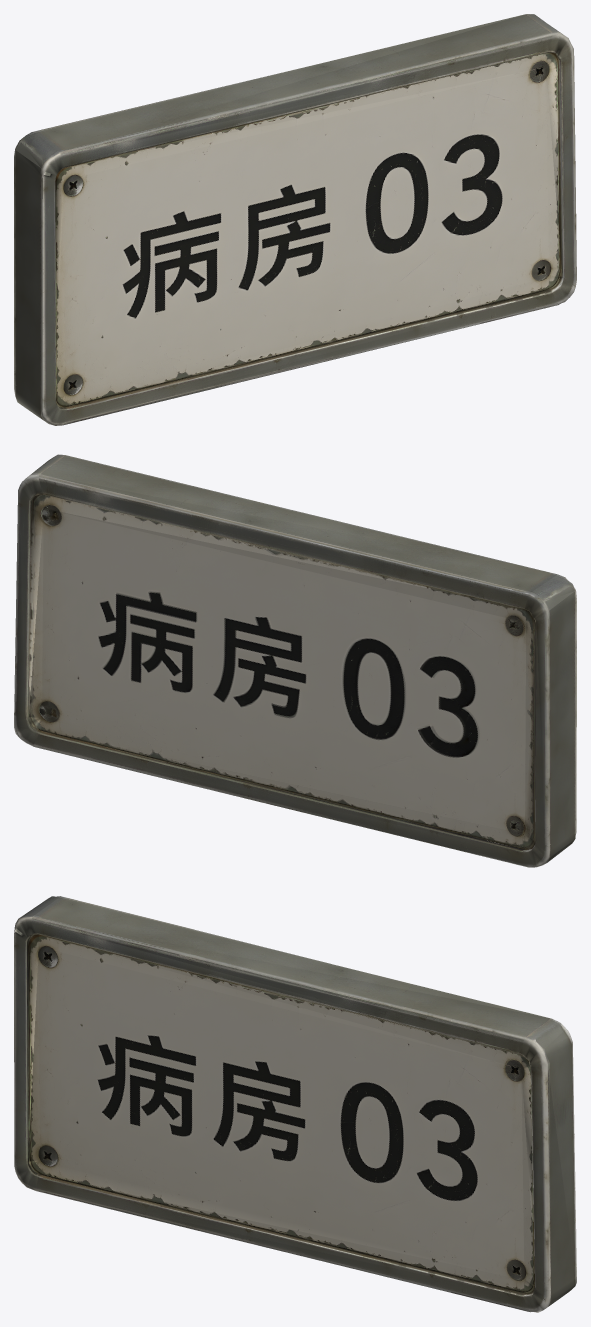
Rendered from room‑sign.fbx.
3 renders of one model, top to bottom at view 1: azimuth 30°, elevation 25°; view 2: azimuth 150°, elevation 25°; view 3: azimuth 330°, elevation 25°, orthographic.
Parts seen in each view (by area): view 1: mesh_node; view 2: mesh_node; view 3: mesh_node.
Boxes of the visible parts, bbox=[...] form: mesh_node: bbox=[14, 14, 576, 425]; mesh_node: bbox=[14, 454, 576, 867]; mesh_node: bbox=[14, 896, 576, 1312].
Bounding box in the file's own units: 100 × 49.12 × 9.79.
Materials: 1 (1 with a texture image).
